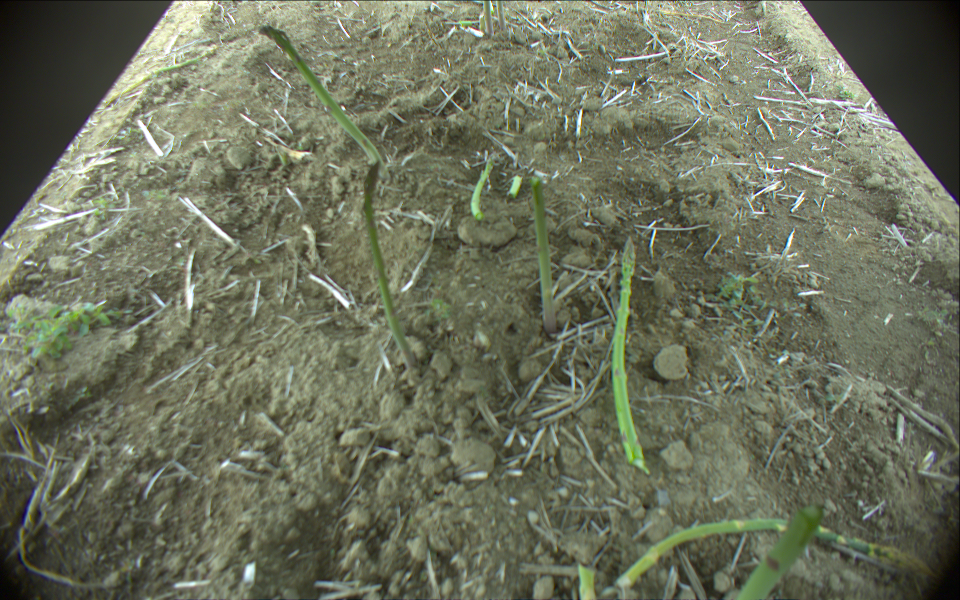aspa: (258, 24, 420, 374), (615, 517, 943, 600), (360, 161, 417, 371), (611, 237, 655, 474), (734, 503, 826, 600), (104, 45, 217, 109), (529, 176, 558, 337), (470, 156, 496, 219), (572, 564, 597, 600), (482, 1, 494, 35), (496, 1, 504, 35), (510, 176, 523, 196)
